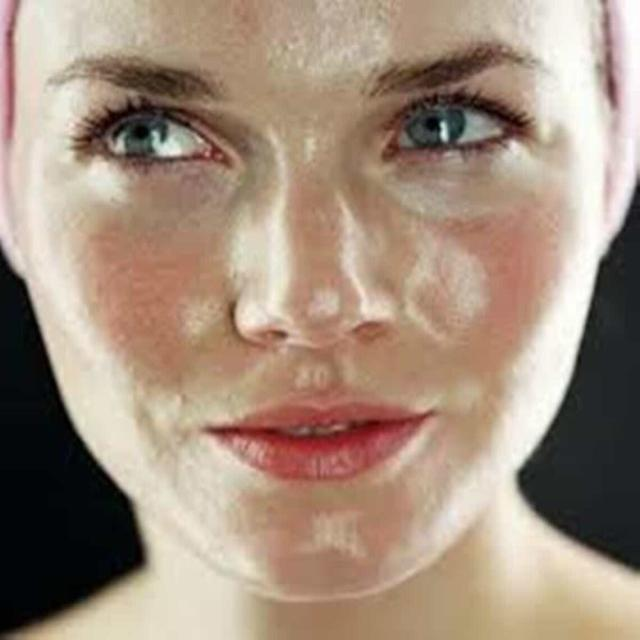Oily-Skin: (403, 203, 491, 351), (227, 130, 290, 320), (266, 0, 401, 79), (335, 176, 399, 329), (311, 510, 367, 564), (179, 292, 222, 342), (306, 284, 343, 319), (293, 361, 333, 393), (302, 128, 316, 164)
